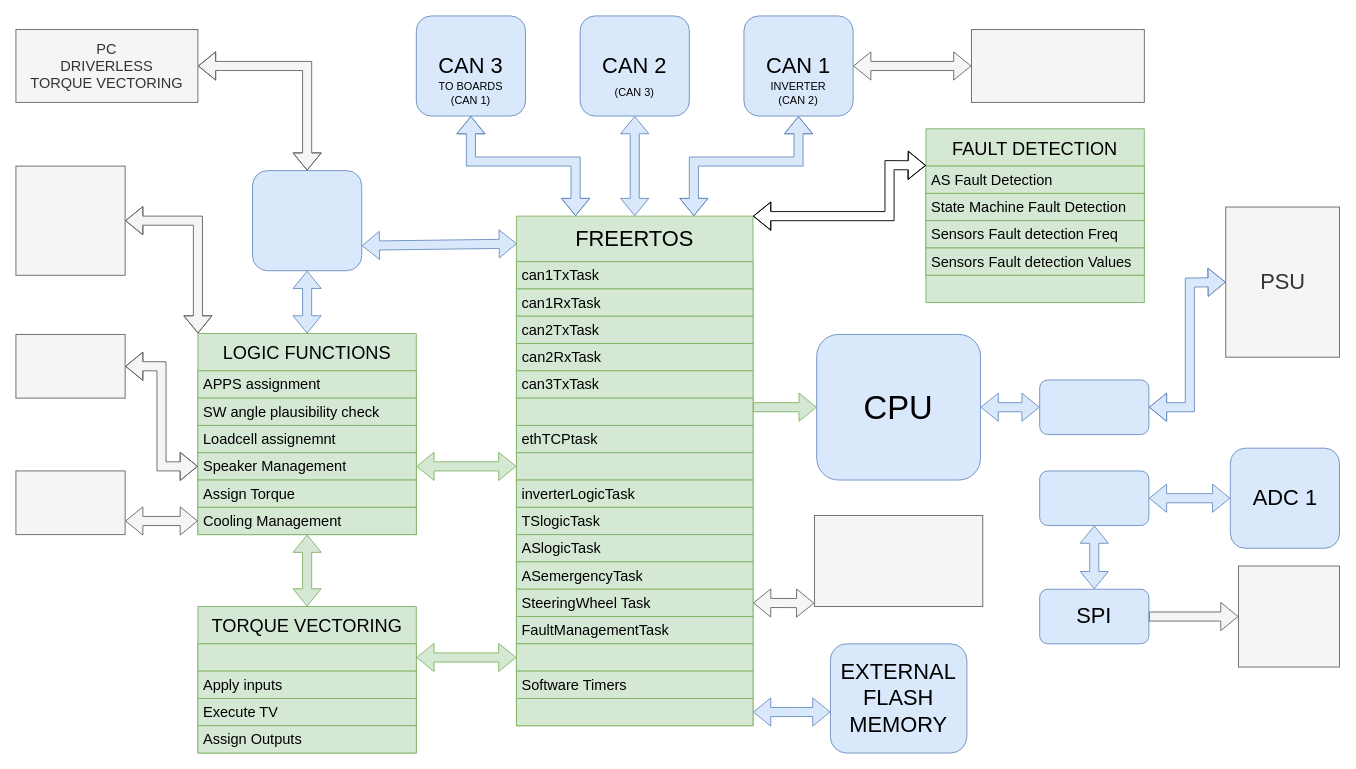
Image size: 1356x769. Some labels were removed from this diagram. Each missing label, with the centre of its shape:
"can3RxTask" goes at pixel 634 411.
"DMA" goes at pixel 1094 498.
"DRIVER INPUTS" goes at pixel 70 220.
"ETH" goes at pixel 307 220.
"Flash Read/Write Task" goes at pixel 634 712.
"FR32" goes at pixel 1289 616.
"GPIO" goes at pixel 1094 407.
"INVERTERS" goes at pixel 1057 65.
"logicFunctionsTask" goes at pixel 634 466.
"PUMPS FANS" goes at pixel 70 502.
"Sensors Fault detection" goes at pixel 306 657.
"SPEAKER" goes at pixel 70 366.
"STEERING WHEEL" goes at pixel 898 561.
"TorqueVectoringtask" goes at pixel 634 657.
"Various other Faults" goes at pixel 1034 288.
